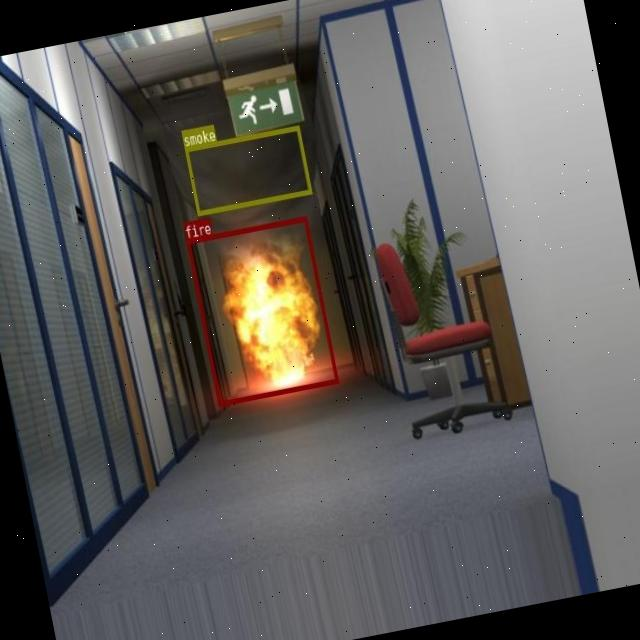fire: (186, 216, 338, 406)
smoke: (184, 124, 312, 214)
